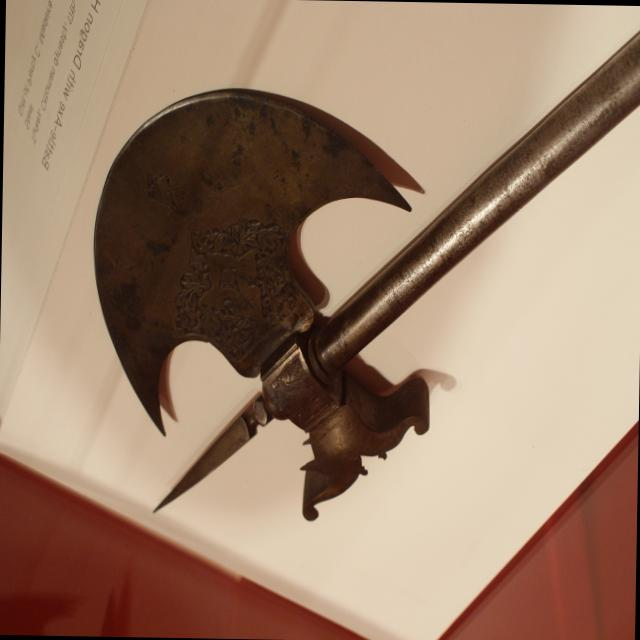Gun: (71, 0, 640, 547)
